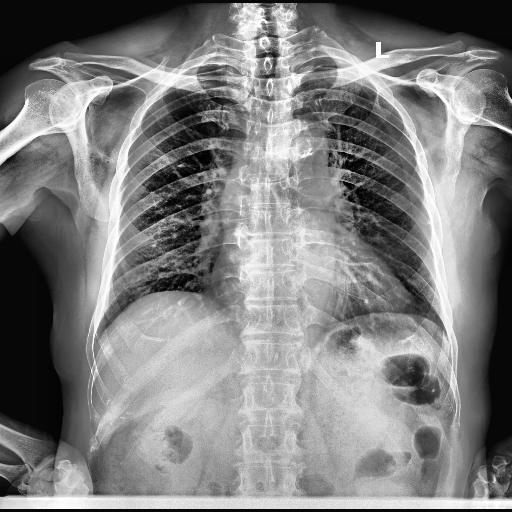0- Aortic enlargement: (272, 119, 328, 179), (273, 120, 328, 170), (280, 119, 330, 171)
11- Pleural thickening: (180, 58, 237, 78), (308, 55, 350, 68)
3- Cardiomegaly: (205, 260, 410, 314), (210, 268, 412, 318)
